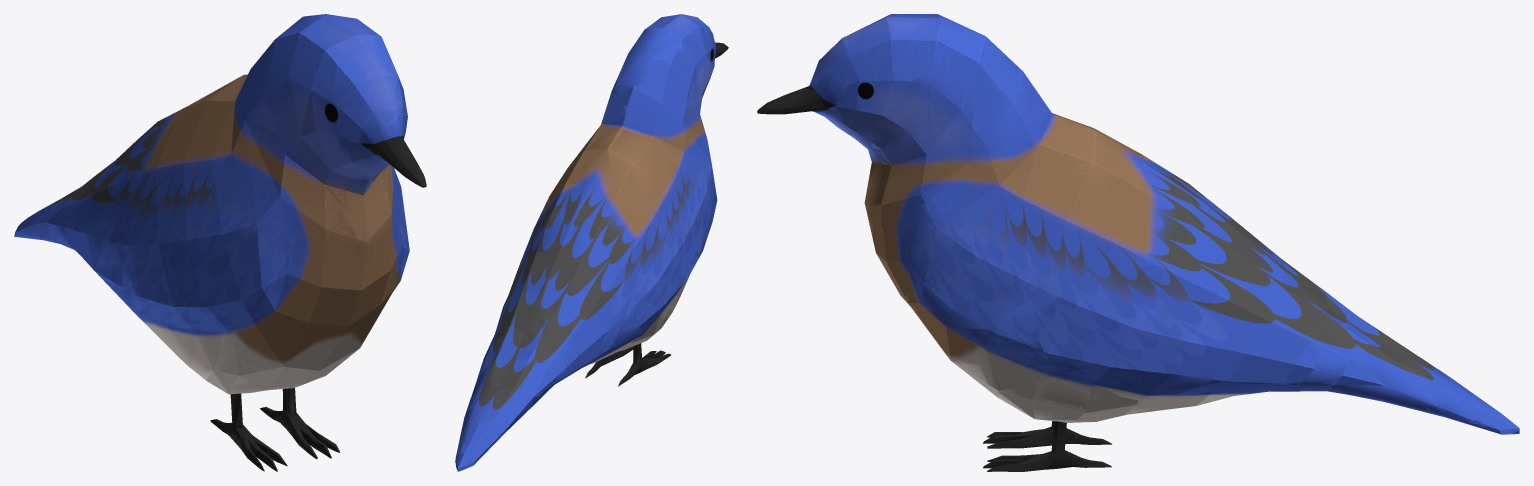
File: westernBlueBird.glb
The picture shows the model from 3 angles, left to right: view 1: azimuth 30°, elevation 25°; view 2: azimuth 150°, elevation 25°; view 3: azimuth 270°, elevation 25°; orthographic projection. The views are drawn at different scales.
Visible parts, largest first — view 1: origin, WesternBluebird_Mesh_cell.064, WesternBluebird_Mesh_cell.049, WesternBluebird_Mesh_cell.024, WesternBluebird_Mesh_cell.080, WesternBluebird_Mesh_cell.050, WesternBluebird_Mesh_cell.052, WesternBluebird_Mesh_cell.045, WesternBluebird_Mesh_cell.035, WesternBluebird_Mesh_cell.053, WesternBluebird_Mesh_cell.034, WesternBluebird_Mesh_cell.014 (+10 smaller); view 2: origin, WesternBluebird_Mesh_cell.024, WesternBluebird_Mesh_cell.053, WesternBluebird_Mesh_cell.083, WesternBluebird_Mesh_cell.055, WesternBluebird_Mesh_cell.011, WesternBluebird_Mesh_cell.064, WesternBluebird_Mesh_cell.067, WesternBluebird_Mesh_cell.029, WesternBluebird_Mesh_cell.041, WesternBluebird_Mesh_cell.034, WesternBluebird_Mesh_cell.080 (+2 smaller); view 3: origin, WesternBluebird_Mesh_cell.078, WesternBluebird_Mesh_cell.029, WesternBluebird_Mesh_cell.069, WesternBluebird_Mesh_cell.046, WesternBluebird_Mesh_cell.074, WesternBluebird_Mesh_cell.053, WesternBluebird_Mesh_cell.055, WesternBluebird_Mesh_cell.004, WesternBluebird_Mesh_cell.071, WesternBluebird_Mesh_cell.043, WesternBluebird_Mesh_cell.056 (+9 smaller).
Boxes of the visible parts, <box> form: origin: <box>14,15,426,471</box>; WesternBluebird_Mesh_cell.064: <box>180,123,283,251</box>; WesternBluebird_Mesh_cell.049: <box>277,140,357,252</box>; WesternBluebird_Mesh_cell.024: <box>64,138,139,261</box>; WesternBluebird_Mesh_cell.080: <box>278,20,340,140</box>; WesternBluebird_Mesh_cell.050: <box>249,26,303,133</box>; WesternBluebird_Mesh_cell.052: <box>313,116,398,174</box>; WesternBluebird_Mesh_cell.045: <box>336,78,407,143</box>; WesternBluebird_Mesh_cell.035: <box>122,250,219,384</box>; WesternBluebird_Mesh_cell.053: <box>127,107,185,204</box>; WesternBluebird_Mesh_cell.034: <box>161,215,276,320</box>; WesternBluebird_Mesh_cell.014: <box>332,52,398,112</box>; origin: <box>455,14,728,471</box>; WesternBluebird_Mesh_cell.024: <box>526,258,645,376</box>; WesternBluebird_Mesh_cell.053: <box>531,148,639,262</box>; WesternBluebird_Mesh_cell.083: <box>604,105,686,214</box>; WesternBluebird_Mesh_cell.055: <box>617,27,672,97</box>; WesternBluebird_Mesh_cell.011: <box>459,396,524,443</box>; WesternBluebird_Mesh_cell.064: <box>682,107,713,211</box>; WesternBluebird_Mesh_cell.067: <box>490,309,565,399</box>; WesternBluebird_Mesh_cell.029: <box>466,324,508,411</box>; WesternBluebird_Mesh_cell.041: <box>642,195,679,256</box>; WesternBluebird_Mesh_cell.034: <box>673,178,717,258</box>; WesternBluebird_Mesh_cell.080: <box>684,25,712,106</box>; origin: <box>757,14,1519,471</box>; WesternBluebird_Mesh_cell.078: <box>896,190,1062,329</box>; WesternBluebird_Mesh_cell.029: <box>1296,317,1432,410</box>; WesternBluebird_Mesh_cell.069: <box>1029,136,1166,276</box>; WesternBluebird_Mesh_cell.046: <box>970,91,1037,167</box>; WesternBluebird_Mesh_cell.074: <box>906,73,974,170</box>; WesternBluebird_Mesh_cell.053: <box>1094,131,1235,269</box>; WesternBluebird_Mesh_cell.055: <box>933,16,1025,96</box>; WesternBluebird_Mesh_cell.004: <box>1033,265,1213,400</box>; WesternBluebird_Mesh_cell.071: <box>955,327,1057,389</box>; WesternBluebird_Mesh_cell.043: <box>843,104,925,210</box>; WesternBluebird_Mesh_cell.056: <box>988,376,1091,424</box>.
Size of the model in its own units: 1.93 by 4.48 by 7.06.
1 material, 1 textured.
